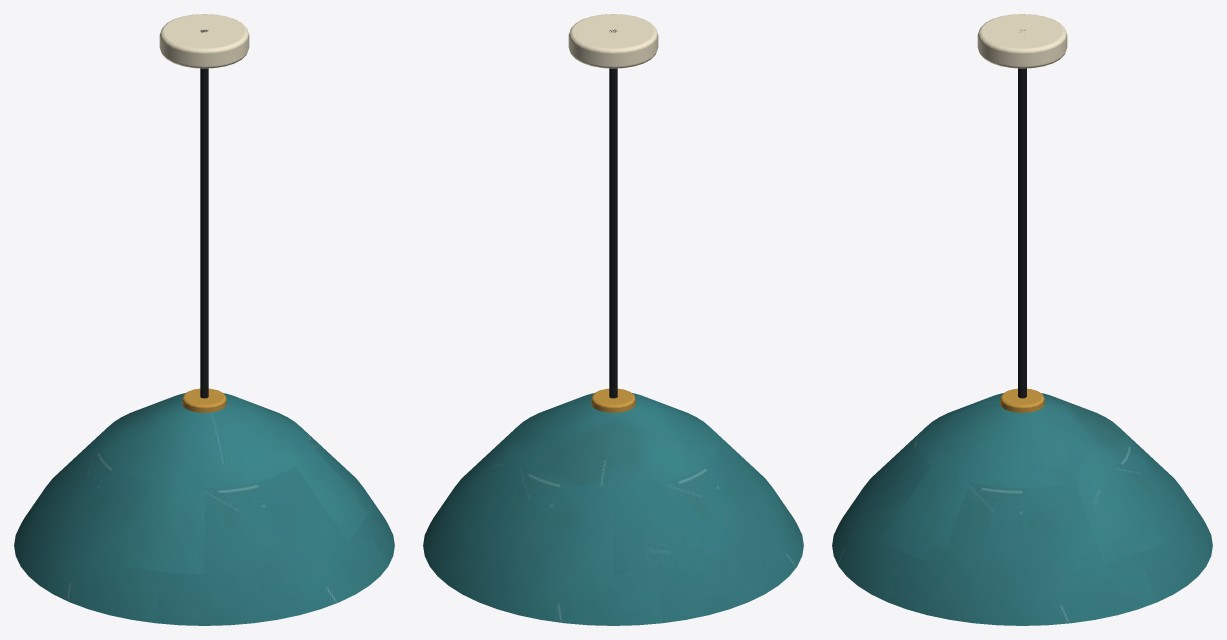
The model's file is PendantLamp.glb.
3 renders of one model, left to right at view 1: azimuth 30°, elevation 25°; view 2: azimuth 150°, elevation 25°; view 3: azimuth 270°, elevation 25°, orthographic.
Visible parts, largest first — view 1: PendantLamp_Body; view 2: PendantLamp_Body; view 3: PendantLamp_Body.
Boxes of the visible parts, <box> form: PendantLamp_Body: <box>14,14,394,625</box>; PendantLamp_Body: <box>423,14,803,625</box>; PendantLamp_Body: <box>832,14,1212,625</box>.
Size of the model in its own units: 0.51 by 0.76 by 0.51.
5 materials, 1 textured.
